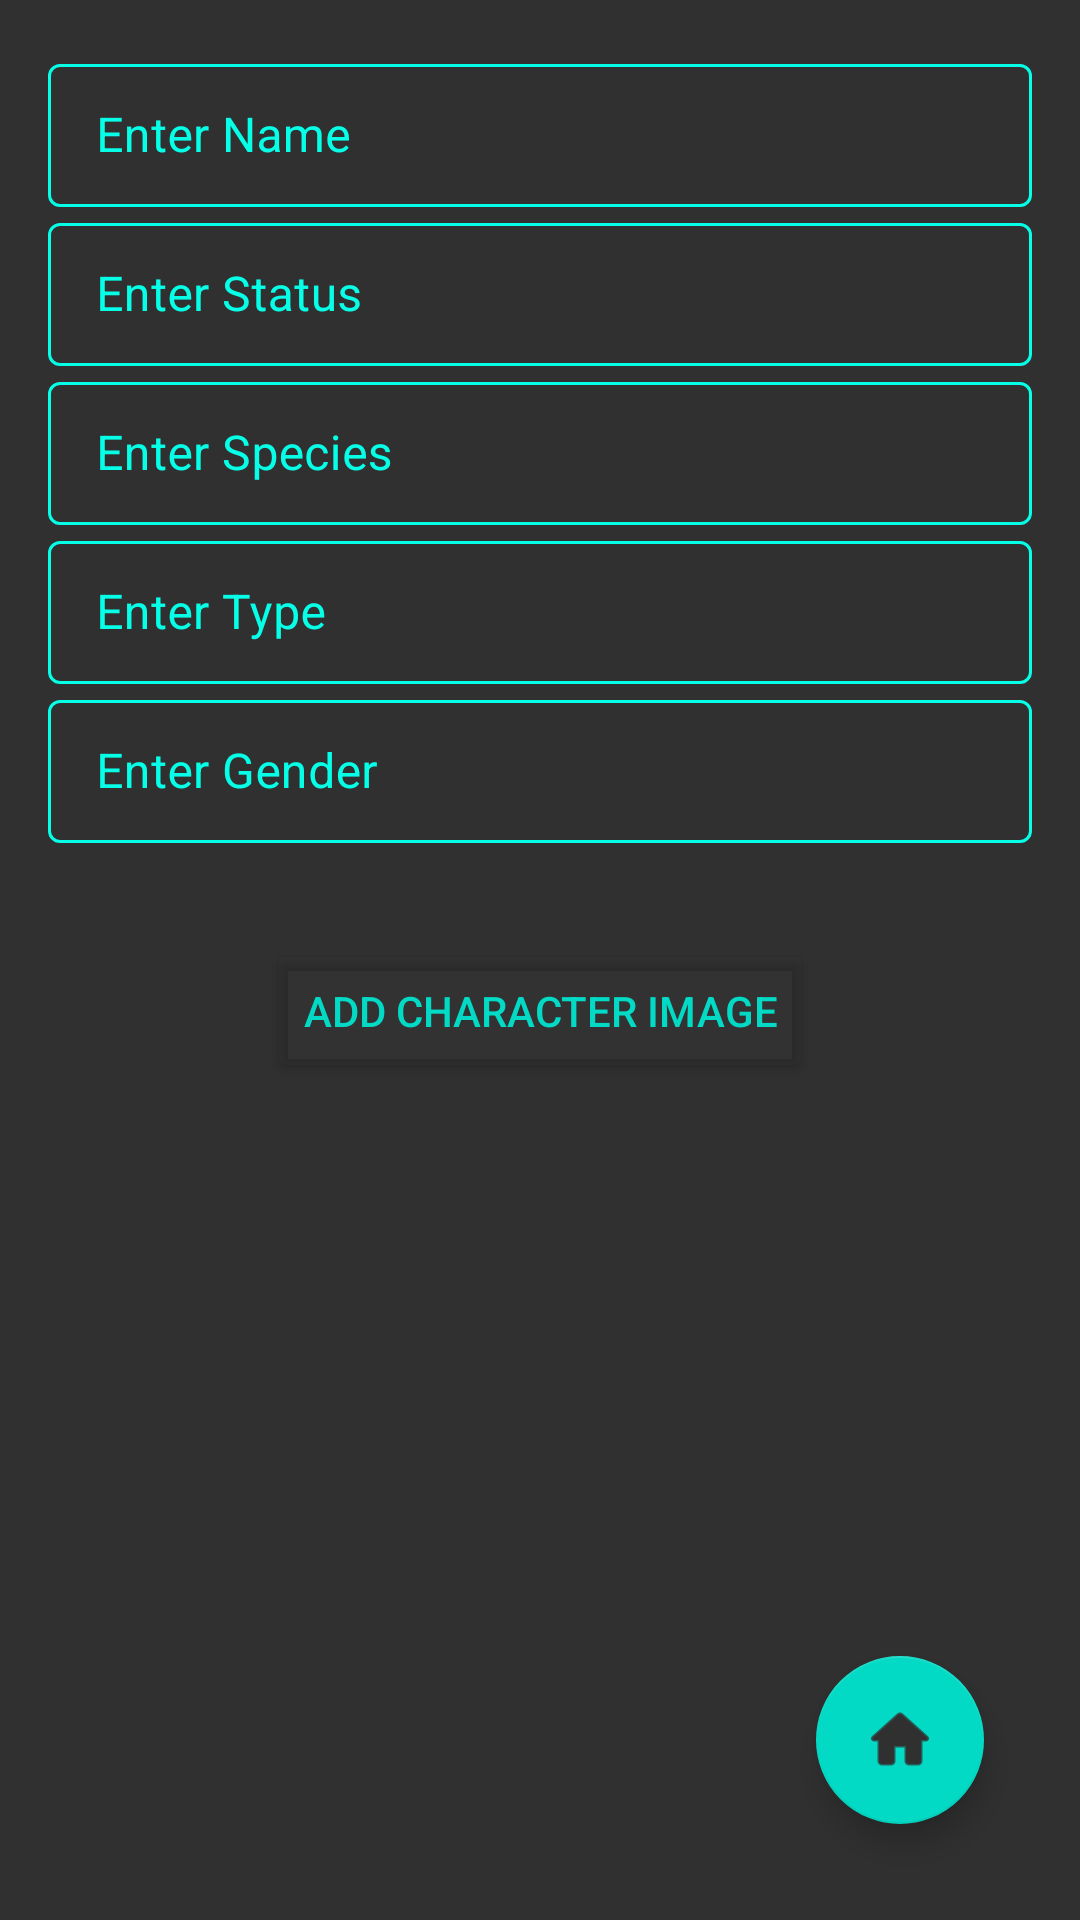

Icon click points for this 1080×1920 phone screenshot, format (x=x, y=y):
home: (x=900, y=1740)
